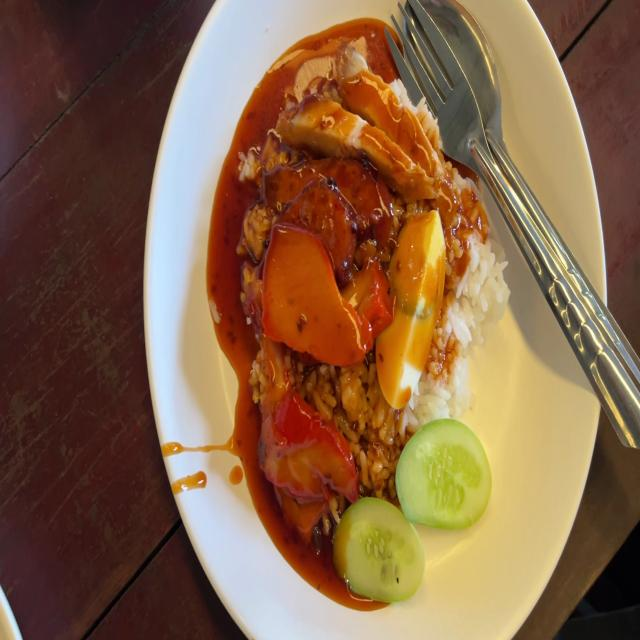red_pork_and_crispy_pork: (380, 214, 444, 407)
stir_fried_basil: (271, 150, 385, 258)
